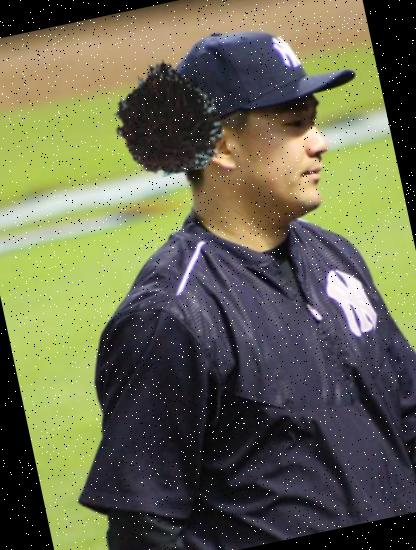Rambutan: (99, 49, 236, 187)
